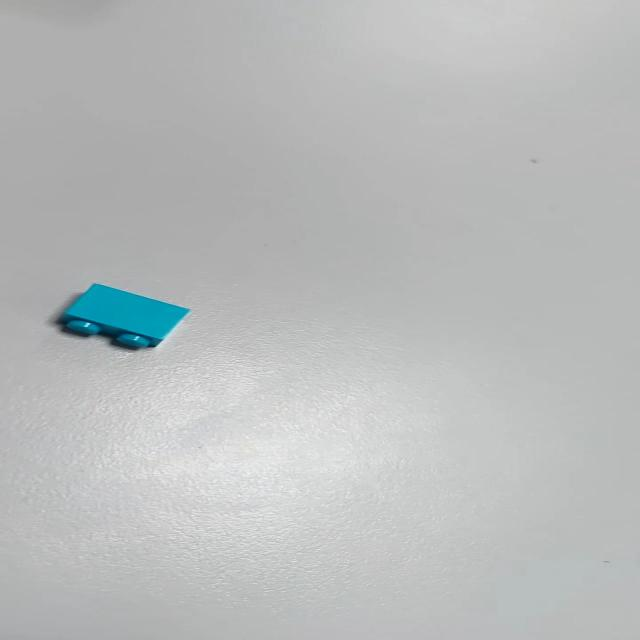C2x1x1: (58, 282, 190, 349)
